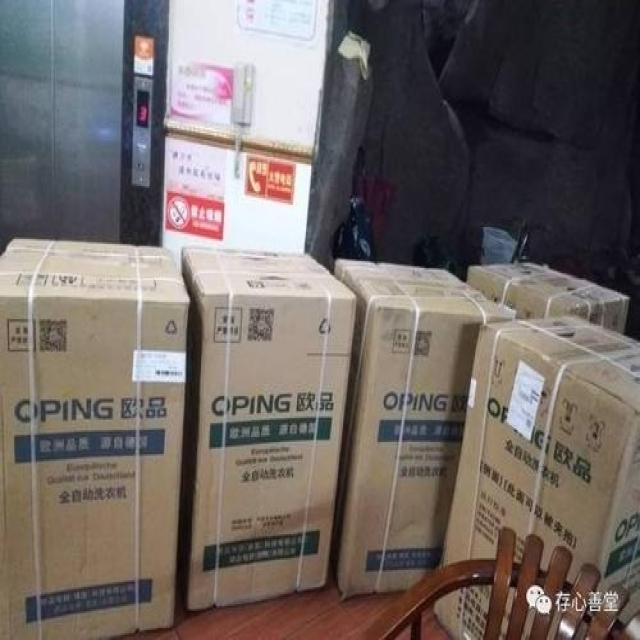box: (0, 237, 190, 638), (176, 247, 358, 609), (329, 259, 517, 595), (438, 314, 638, 623), (468, 261, 629, 334)
